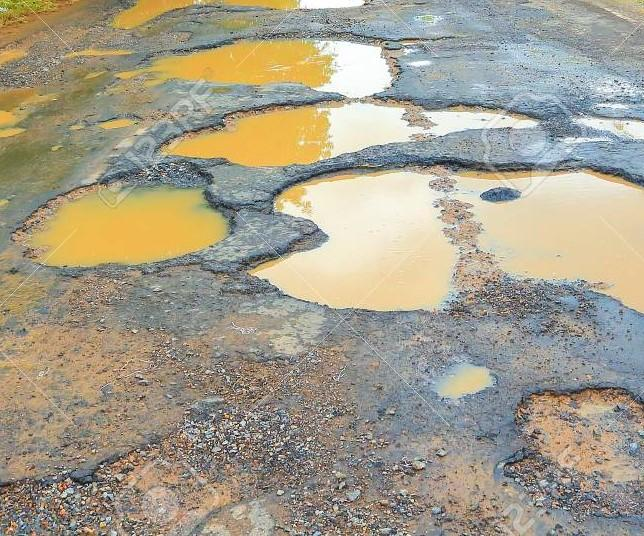pothole: (0, 0, 644, 363), (416, 133, 638, 304), (275, 150, 477, 316), (28, 159, 238, 279), (498, 380, 644, 536), (136, 28, 424, 102), (199, 82, 385, 180), (400, 59, 530, 173), (12, 45, 155, 145)
